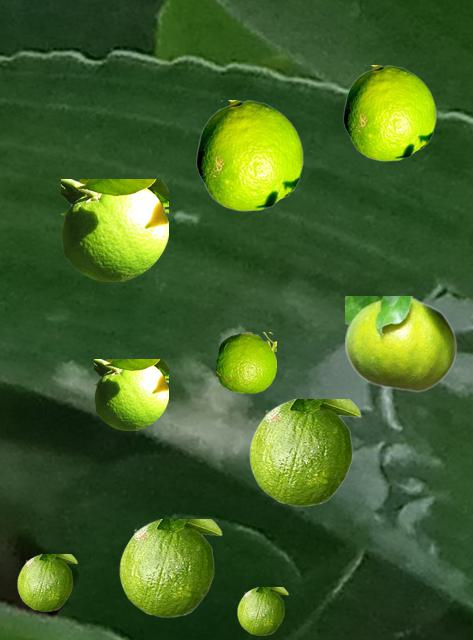dalandan: (249, 399, 360, 505), (196, 100, 302, 210), (61, 179, 167, 280), (345, 296, 456, 391), (119, 519, 221, 616), (343, 65, 435, 160), (94, 359, 167, 429), (216, 332, 275, 392), (17, 554, 76, 610), (237, 587, 287, 634)
